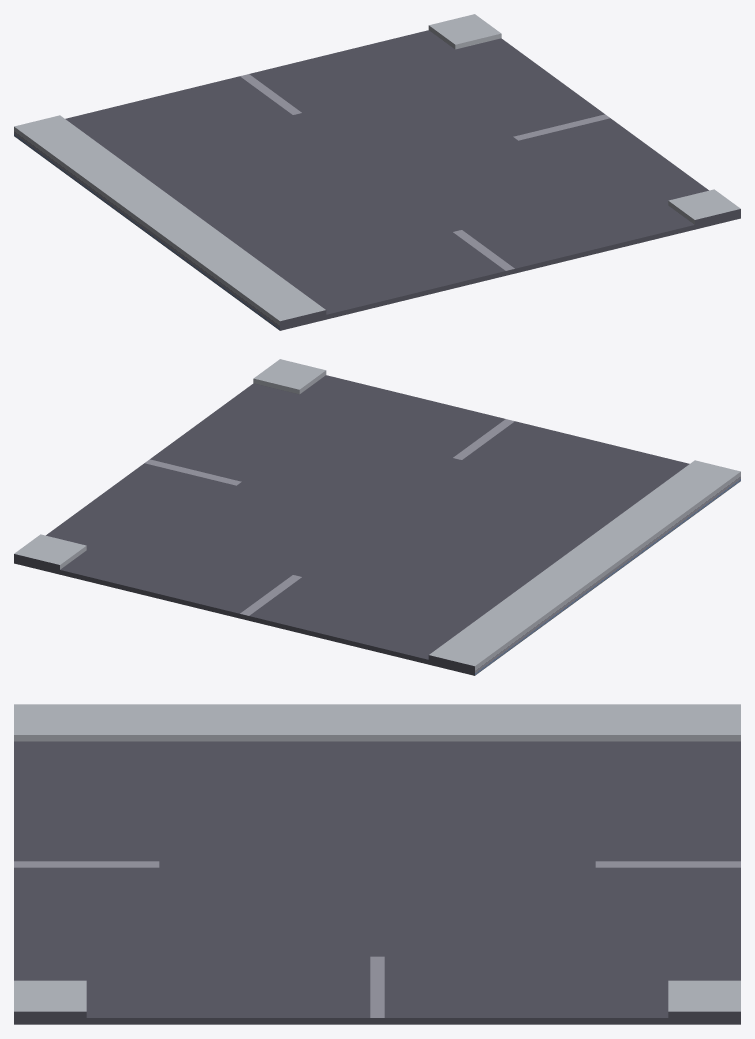
Rendered from road-t.glb.
3 renders of one model, top to bottom at view 1: azimuth 30°, elevation 25°; view 2: azimuth 150°, elevation 25°; view 3: azimuth 270°, elevation 25°, orthographic. The views are drawn at different scales.
Parts seen in each view (by area): view 1: road-t; view 2: road-t; view 3: road-t.
Boxes of the visible parts, box(x1,y1,x2,y2) form: road-t: box(14, 14, 740, 330); road-t: box(14, 359, 740, 675); road-t: box(14, 704, 740, 1024).
Bounding box in the file's own units: 1 × 0.02 × 1.
1 material, 1 textured.
